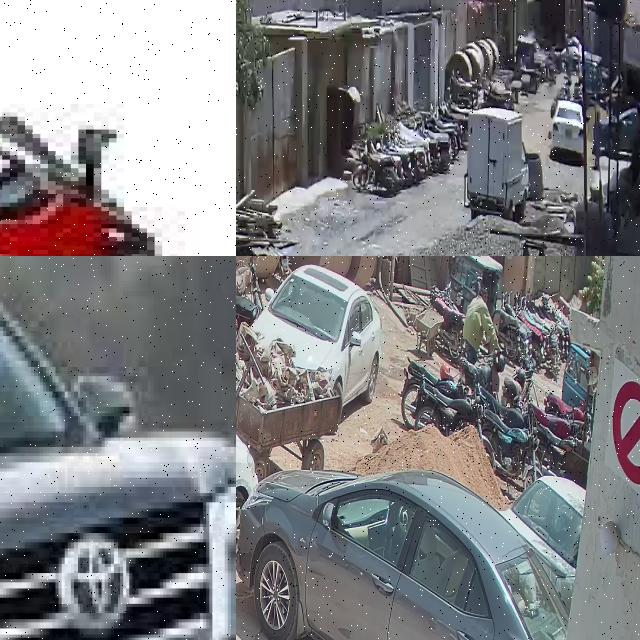bike: (0, 103, 236, 256), (398, 357, 464, 429), (412, 374, 484, 438), (483, 404, 539, 479), (478, 381, 533, 430), (536, 420, 580, 478), (431, 286, 464, 362), (544, 390, 591, 442), (460, 351, 502, 402), (352, 150, 397, 195), (236, 256, 258, 328), (503, 360, 537, 405), (236, 256, 263, 312), (533, 405, 575, 439), (500, 309, 520, 361)
car: (0, 256, 236, 640), (236, 467, 569, 640), (251, 266, 381, 418), (509, 475, 584, 594), (599, 107, 640, 166), (552, 100, 584, 161)
